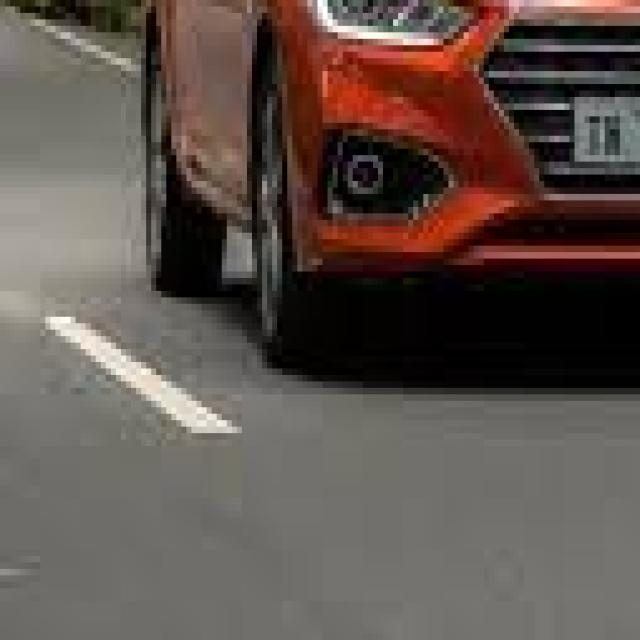car: (101, 0, 640, 401)
